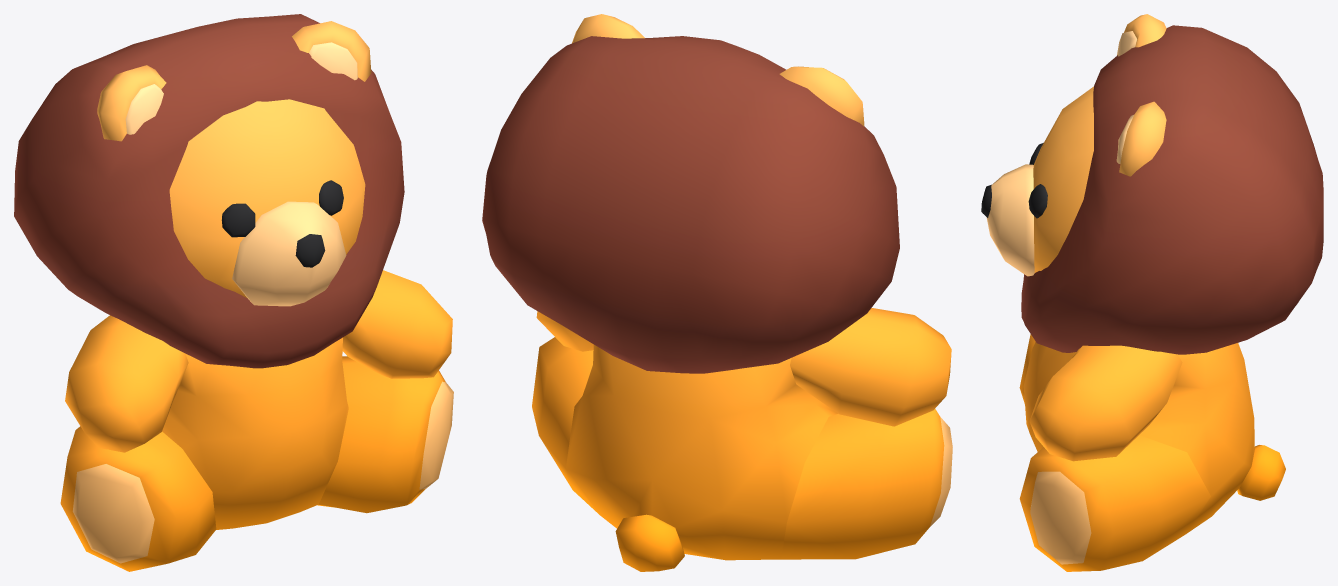
Rendered from lion.glb.
3 views of the same model, side by side, from view 1: azimuth 30°, elevation 25°; view 2: azimuth 150°, elevation 25°; view 3: azimuth 270°, elevation 25° (orthographic). The views are drawn at different scales.
Visible parts, largest first — view 1: Lion_01; view 2: Lion_01; view 3: Lion_01.
Part boxes in pixels (x1,y1,x2,y2): Lion_01: [14, 14, 453, 571]; Lion_01: [482, 14, 952, 571]; Lion_01: [981, 14, 1323, 571].
Size of the model in its own units: 0.3281 by 0.3974 by 0.2706.
Materials: 2 (2 with a texture image).
